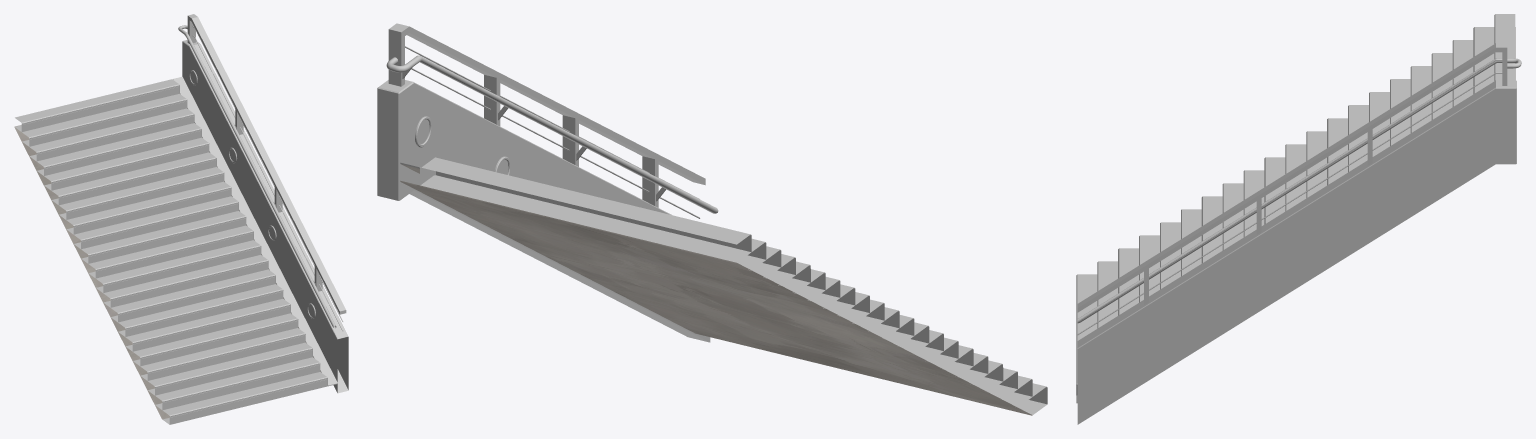
File: MESH_StairsR_Second.fbx
3 views of the same model, side by side, from view 1: azimuth 30°, elevation 25°; view 2: azimuth 150°, elevation 25°; view 3: azimuth 270°, elevation 25° (orthographic). The views are drawn at different scales.
Visible parts, largest first — view 1: StairsR.001, ConcreteBaseR_Second, HandleR_Second, LampsR_Second; view 2: StairsR.001, ConcreteBaseR_Second, HandleR_Second, LampsR_Second; view 3: ConcreteBaseR_Second, StairsR.001, HandleR_Second.
Part boxes in pixels (box(x1,y1,x2,y2)): StairsR.001: box(14, 76, 337, 424); ConcreteBaseR_Second: box(182, 40, 348, 393); HandleR_Second: box(178, 14, 346, 331); LampsR_Second: box(189, 70, 315, 318); StairsR.001: box(400, 157, 1047, 415); ConcreteBaseR_Second: box(377, 80, 710, 342); HandleR_Second: box(386, 23, 718, 218); LampsR_Second: box(415, 116, 510, 175); ConcreteBaseR_Second: box(1077, 80, 1516, 424); StairsR.001: box(1076, 14, 1515, 403); HandleR_Second: box(1077, 43, 1521, 334).
Bounding box in the file's own units: 400 × 567 × 609.
